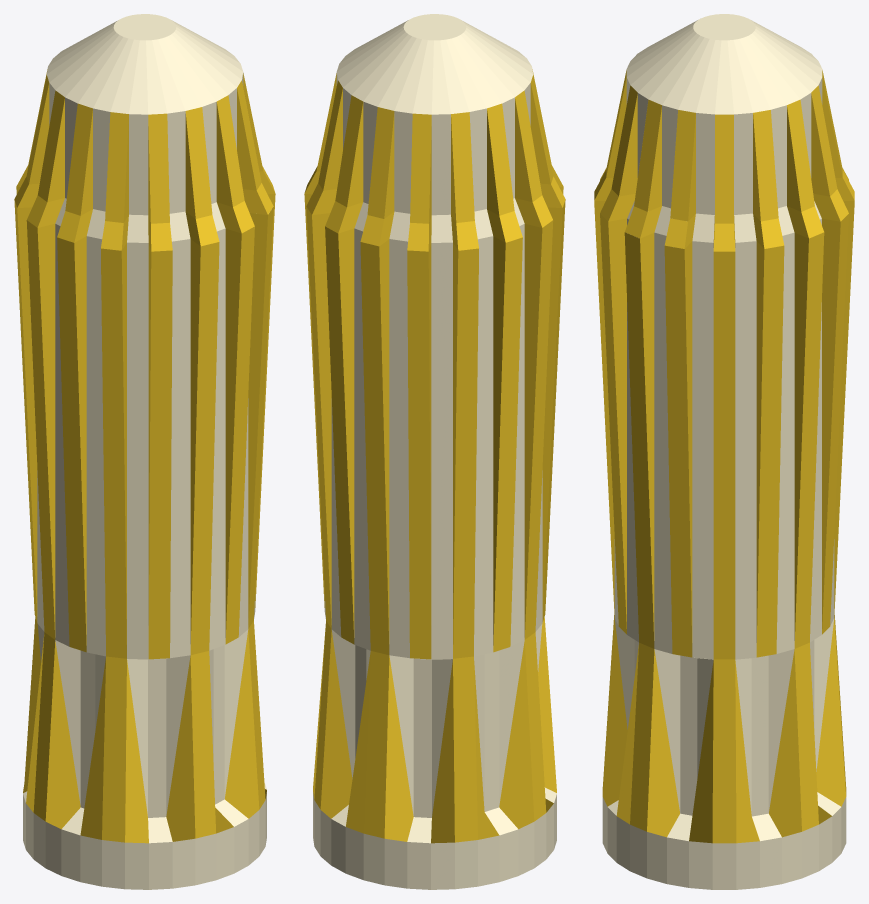
File: Nozzle2.fbx
3 renders of one model, left to right at view 1: azimuth 30°, elevation 25°; view 2: azimuth 150°, elevation 25°; view 3: azimuth 270°, elevation 25°, orthographic.
Parts seen in each view (by area): view 1: Nozzle; view 2: Nozzle; view 3: Nozzle.
Part boxes in pixels (x1=…): Nozzle: x1=14, y1=14, x2=275, y2=889; Nozzle: x1=304, y1=14, x2=565, y2=889; Nozzle: x1=594, y1=14, x2=854, y2=889.
Size of the model in its own units: 128 by 438 by 128.
